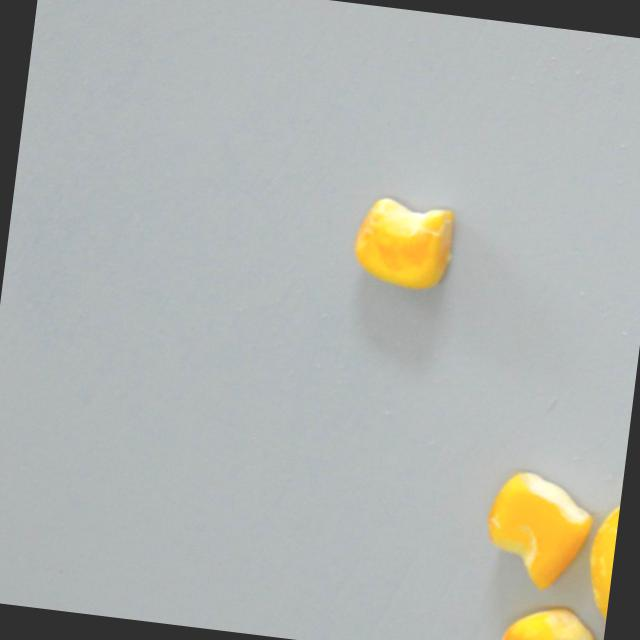no_canjicado: (480, 467, 597, 596), (498, 600, 606, 640)
pelicula: (348, 193, 459, 295), (579, 493, 621, 634)
